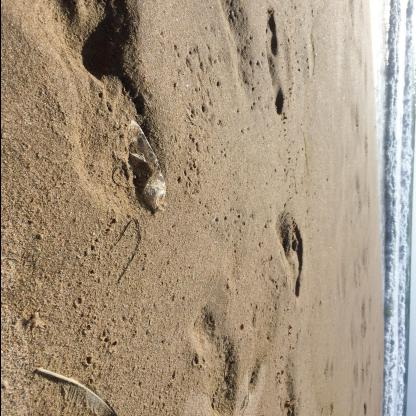diger: (129, 120, 165, 211)
